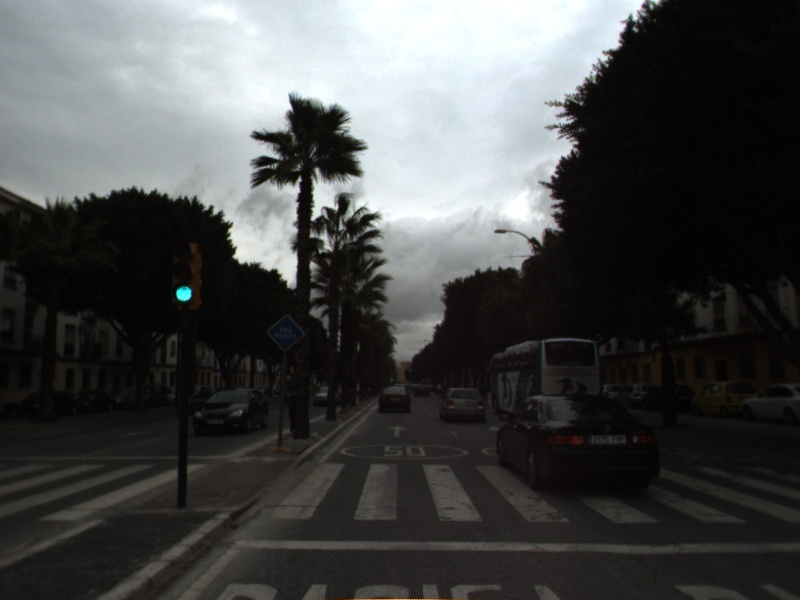STRAIGHT: (386, 422, 411, 439)
